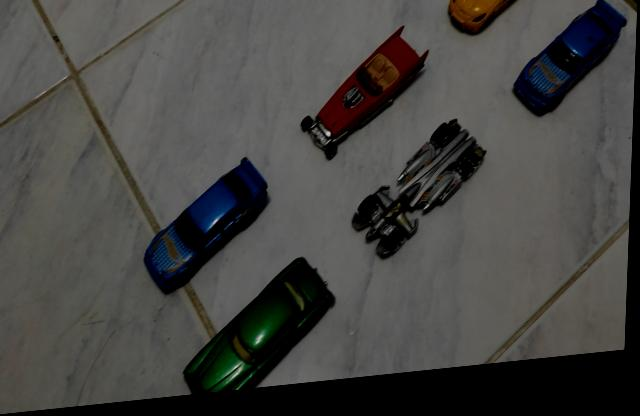02_OZSOME: (625, 0, 638, 20)
03_V8: (301, 33, 431, 168)
04_MERZEDES: (145, 162, 269, 298), (513, 10, 628, 127)
05_DC121: (352, 127, 490, 268)
07_RHLTURBO: (185, 264, 339, 399), (448, 0, 531, 45)
